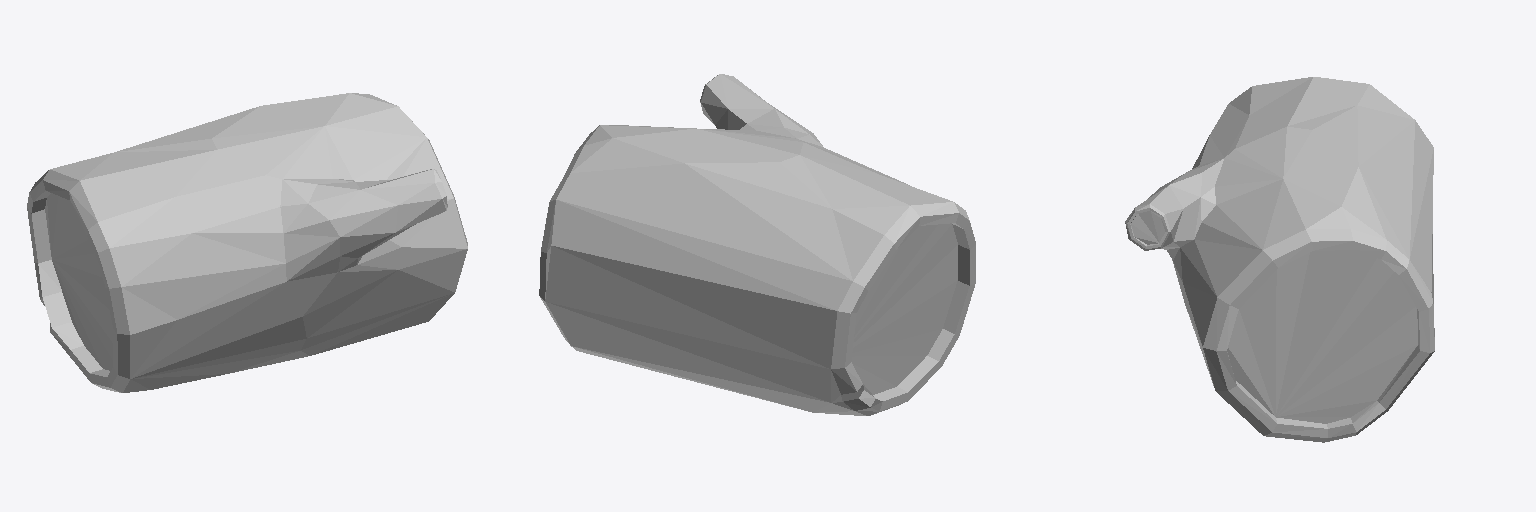
The model's file is Log_2.obj.
The picture shows the model from 3 angles: view 1: azimuth 30°, elevation 25°; view 2: azimuth 150°, elevation 25°; view 3: azimuth 270°, elevation 25°; orthographic projection.
Visible parts, largest first — view 1: Icosphere.035_Icosphere.137; view 2: Icosphere.035_Icosphere.137; view 3: Icosphere.035_Icosphere.137.
Part boxes in pixels (left/top/right/bottom): Icosphere.035_Icosphere.137: left=27, top=93, right=467, bottom=392; Icosphere.035_Icosphere.137: left=539, top=74, right=975, bottom=415; Icosphere.035_Icosphere.137: left=1125, top=77, right=1434, bottom=442.
Size of the model in its own units: 0.9307 by 0.5556 by 0.694.